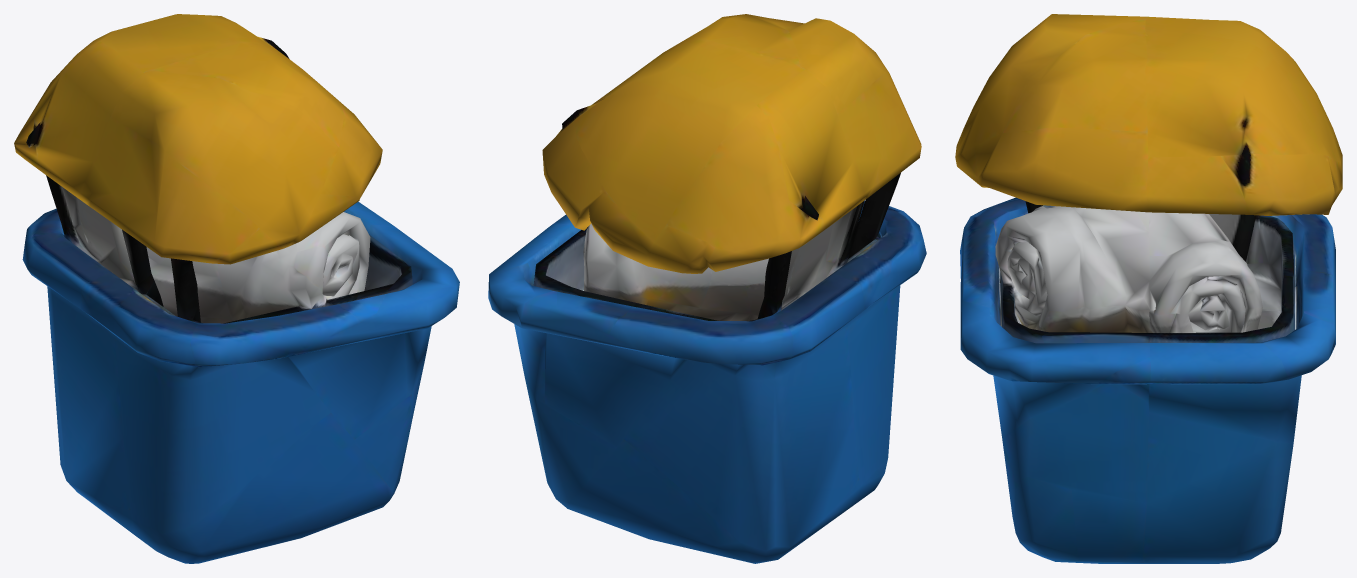
Rendered from towel-bin.glb.
3 views of the same model, side by side, from view 1: azimuth 30°, elevation 25°; view 2: azimuth 150°, elevation 25°; view 3: azimuth 270°, elevation 25° (orthographic).
Visible parts, largest first — view 1: tripo_node_4bcfce5d-cd02-462b-8c35-cda7e25973d7; view 2: tripo_node_4bcfce5d-cd02-462b-8c35-cda7e25973d7; view 3: tripo_node_4bcfce5d-cd02-462b-8c35-cda7e25973d7.
Boxes of the visible parts, <box> form: tripo_node_4bcfce5d-cd02-462b-8c35-cda7e25973d7: <box>14,14,459,563</box>; tripo_node_4bcfce5d-cd02-462b-8c35-cda7e25973d7: <box>488,14,926,563</box>; tripo_node_4bcfce5d-cd02-462b-8c35-cda7e25973d7: <box>955,14,1342,563</box>.
Bounding box in the file's own units: 0.7193 × 0.9995 × 0.7447.
1 material, 1 textured.
